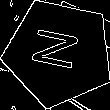N_E: (30, 28, 88, 78)
